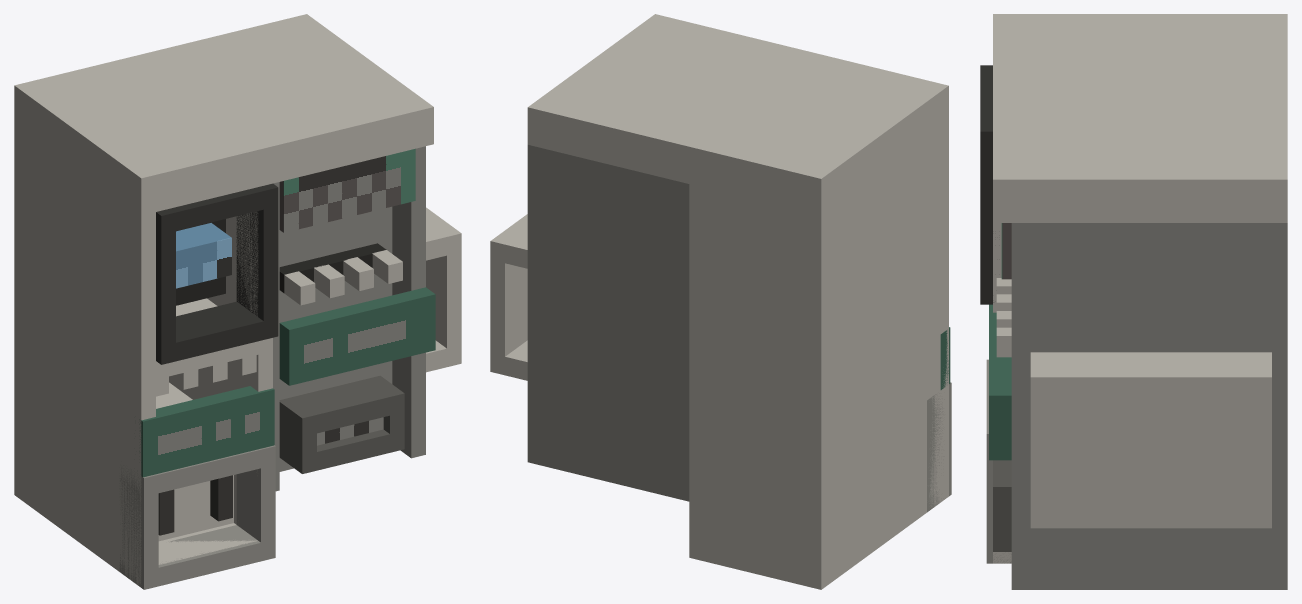
Rendered from CMU3DXRFScannerCloud.glb.
The picture shows the model from 3 angles, left to right: view 1: azimuth 30°, elevation 25°; view 2: azimuth 150°, elevation 25°; view 3: azimuth 270°, elevation 25°; orthographic projection. The views are drawn at different scales.
Parts seen in each view (by area): view 1: left instrument full depth side 5, upper transverse instrument bridge, right green controls source detail, right instrument fascia substrate, left green controls source detail, top detector bar source detail, right instrument full depth side 24, left instrument full depth side 13, lower fan enclosure top, sample chamber rim right, sample chamber rim bottom, lower left recessed cover bottom (+28 smaller); view 2: left instrument rear wall, upper transverse instrument bridge, left instrument full depth side 5, right instrument cabinet rear, right instrument fascia substrate, right instrument full depth side 24, handle outside, left instrument full depth side 13, left instrument lower fascia substrate, handle top, lower left recessed cover left, handle bottom; view 3: upper transverse instrument bridge, right instrument full depth side 24, handle outside, handle top, right instrument cabinet rear, handle bottom, right green controls substrate, sample chamber rim right, sample chamber rim top, lower fan enclosure top, left instrument full depth side 13, lower left recessed cover right (+4 smaller).
Boxes of the visible parts, <box> form: left instrument full depth side 5: <box>14,105,155,587</box>; upper transverse instrument bridge: <box>14,14,433,214</box>; right green controls source detail: <box>289,294,435,385</box>; right instrument fascia substrate: <box>279,206,392,471</box>; left green controls source detail: <box>142,389,274,477</box>; top detector bar source detail: <box>283,148,415,232</box>; right instrument full depth side 24: <box>392,146,425,458</box>; left instrument full depth side 13: <box>169,165,272,525</box>; lower fan enclosure top: <box>279,375,404,436</box>; sample chamber rim right: <box>236,206,278,321</box>; sample chamber rim bottom: <box>156,301,278,364</box>; lower left recessed cover bottom: <box>119,525,275,589</box>; left instrument rear wall: <box>689,165,830,589</box>; upper transverse instrument bridge: <box>527,14,948,215</box>; left instrument full depth side 5: <box>806,104,948,589</box>; right instrument cabinet rear: <box>527,145,689,501</box>; right instrument fascia substrate: <box>542,148,673,482</box>; right instrument full depth side 24: <box>527,145,542,465</box>; handle outside: <box>490,260,527,356</box>; left instrument full depth side 13: <box>689,166,703,556</box>; left instrument lower fascia substrate: <box>704,449,806,566</box>; handle top: <box>490,214,527,268</box>; lower left recessed cover left: <box>927,401,951,493</box>; handle bottom: <box>490,340,527,380</box>; upper transverse instrument bridge: <box>993,14,1287,222</box>; right instrument full depth side 24: <box>1011,223,1287,589</box>; handle outside: <box>1030,399,1271,506</box>; handle top: <box>1030,352,1271,398</box>; right instrument cabinet rear: <box>1265,223,1287,589</box>; handle bottom: <box>1030,507,1271,528</box>; right green controls substrate: <box>989,312,1011,460</box>; sample chamber rim right: <box>980,153,992,282</box>; sample chamber rim top: <box>980,65,992,153</box>; lower fan enclosure top: <box>993,460,1011,508</box>; left instrument full depth side 13: <box>993,223,1011,563</box>; lower left recessed cover right: <box>986,455,992,541</box>.
Bounding box in the file's own units: 0.7188 × 0.836 × 0.49.
Materials: 15 (5 with a texture image).
